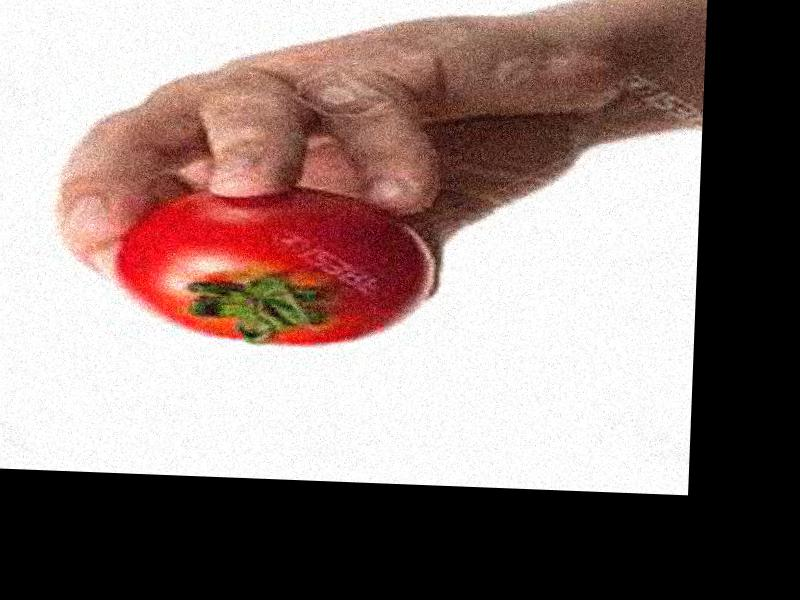Tomato: (112, 183, 433, 351)
